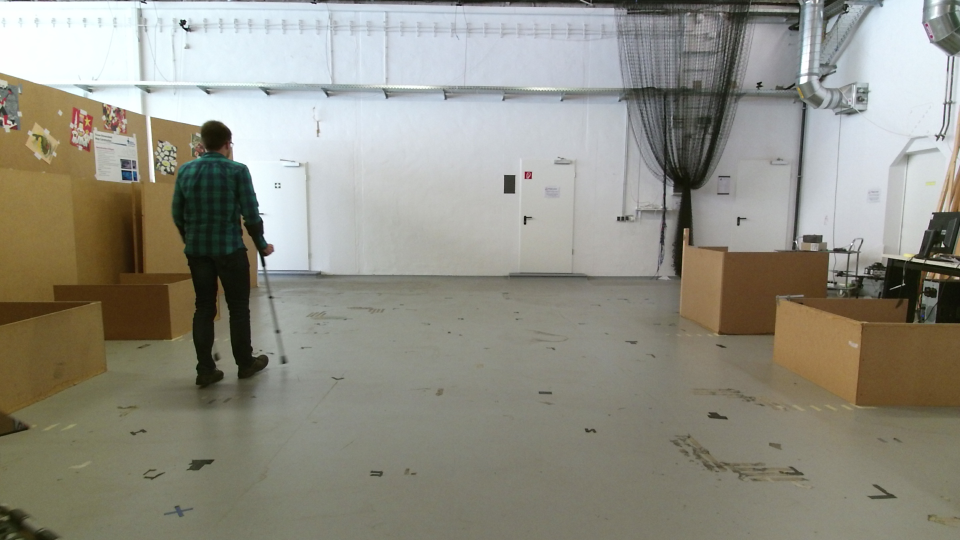crutches: (155, 112, 292, 405)
